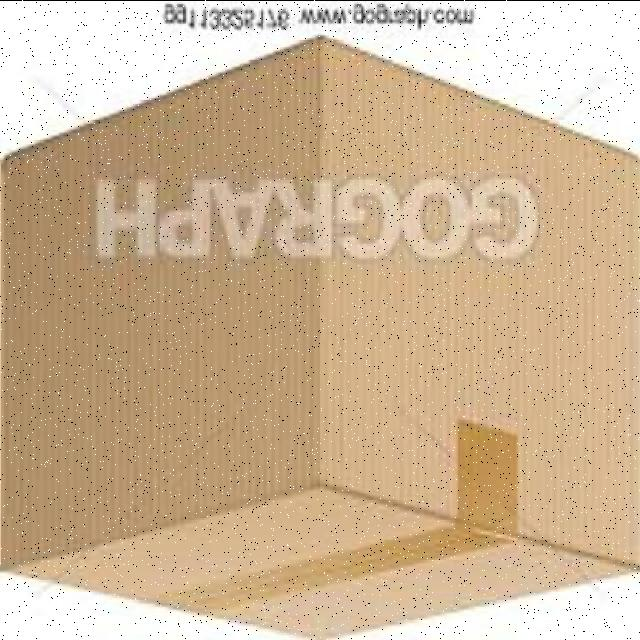normal: (1, 34, 640, 631)
